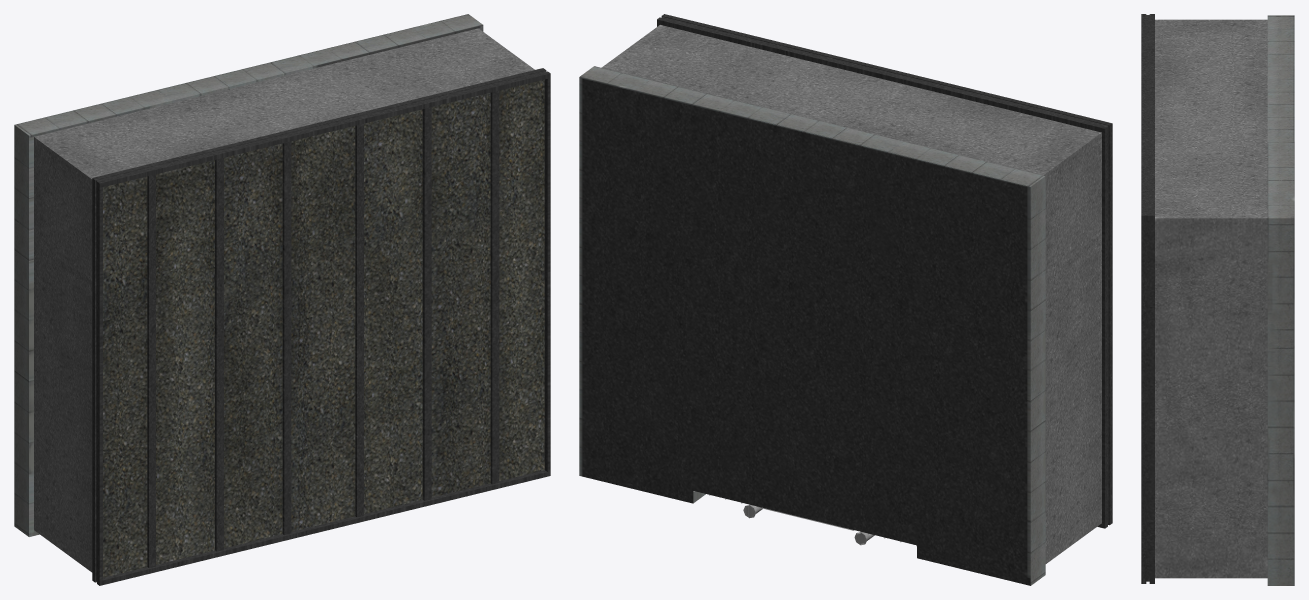
File: 10060_Big_Box_Storefront_V4_L3.obj
3 renders of one model, left to right at view 1: azimuth 30°, elevation 25°; view 2: azimuth 150°, elevation 25°; view 3: azimuth 270°, elevation 25°, orthographic. The views are drawn at different scales.
Parts seen in each view (by area): view 1: 10060_big_box_storefront__walmart_v2_Max2011; view 2: 10060_big_box_storefront__walmart_v2_Max2011; view 3: 10060_big_box_storefront__walmart_v2_Max2011.
Boxes of the visible parts, x1,y1,x2,y2 form: 10060_big_box_storefront__walmart_v2_Max2011: (14,14,550,585); 10060_big_box_storefront__walmart_v2_Max2011: (579,14,1112,585); 10060_big_box_storefront__walmart_v2_Max2011: (1141,14,1294,585).
Size of the model in its own units: 3377 by 2876 by 1080.
Materials: 1 (1 with a texture image).
